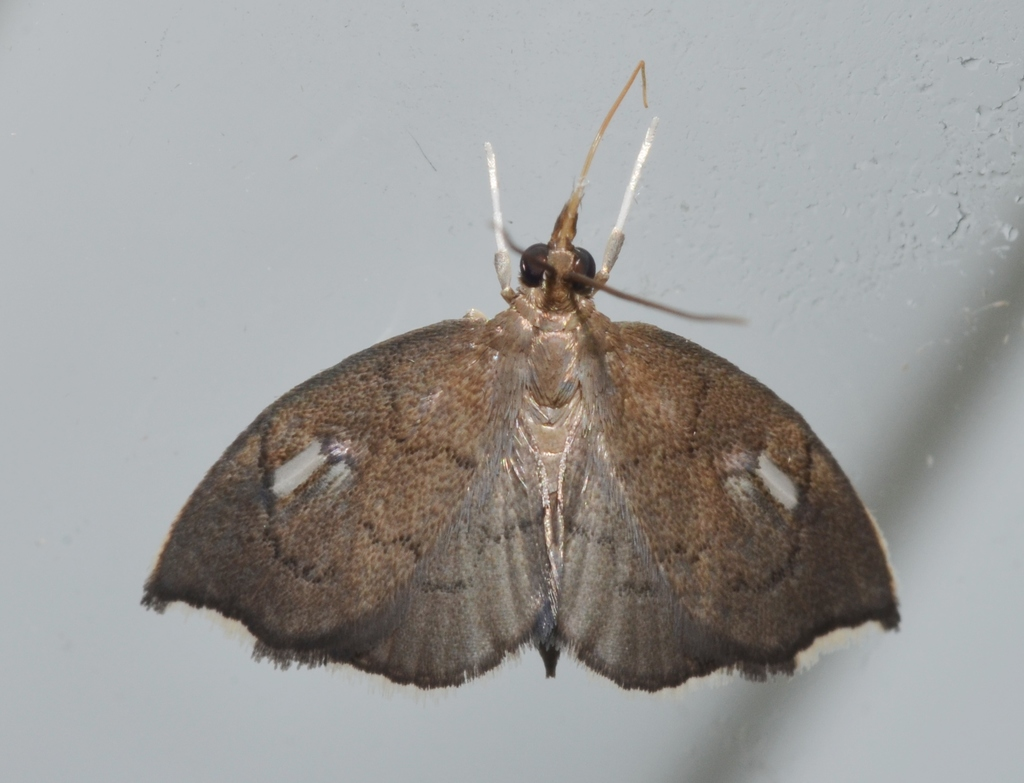Butterfly: (135, 149, 957, 767)
